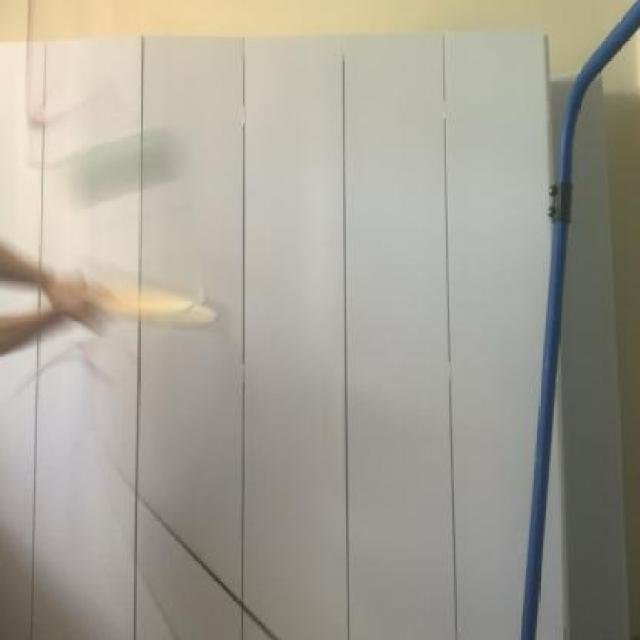baseball: (60, 115, 188, 219)
